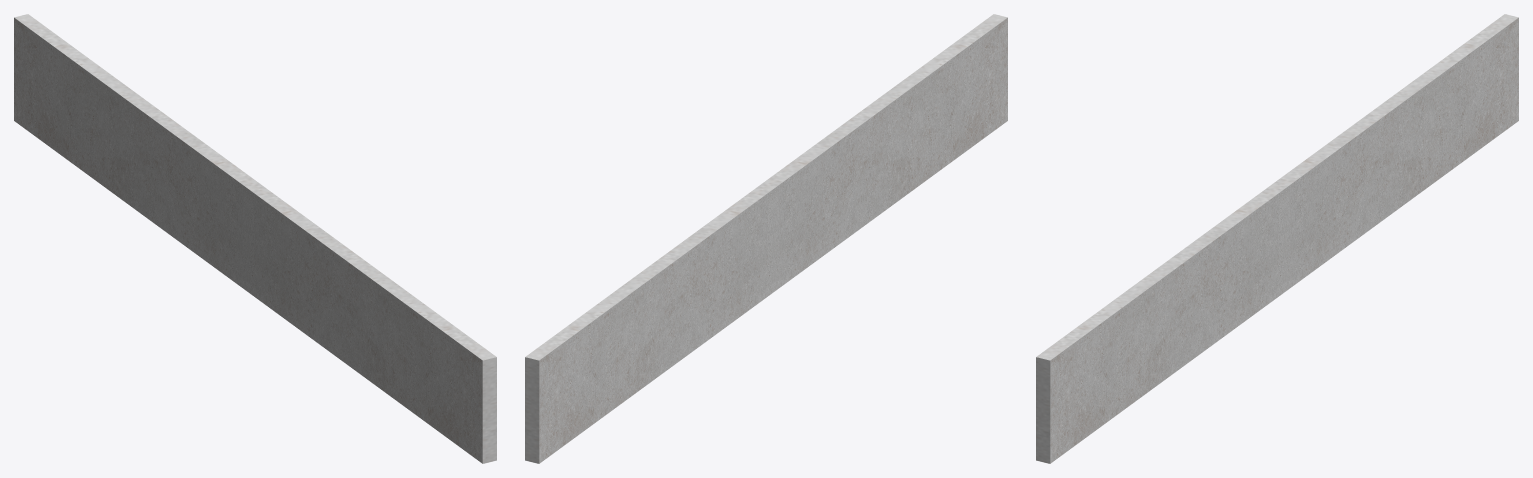
The model's file is SM_Wall08S.fbx.
3 renders of one model, left to right at view 1: azimuth 30°, elevation 25°; view 2: azimuth 150°, elevation 25°; view 3: azimuth 330°, elevation 25°, orthographic.
Parts seen in each view (by area): view 1: SM_Wall08S; view 2: SM_Wall08S; view 3: SM_Wall08S.
Boxes of the visible parts, x1,y1,x2,y2 form: SM_Wall08S: (14,14,496,463); SM_Wall08S: (525,14,1007,463); SM_Wall08S: (1036,14,1518,463).
Size of the model in its own units: 5.32 by 305 by 37.06.
